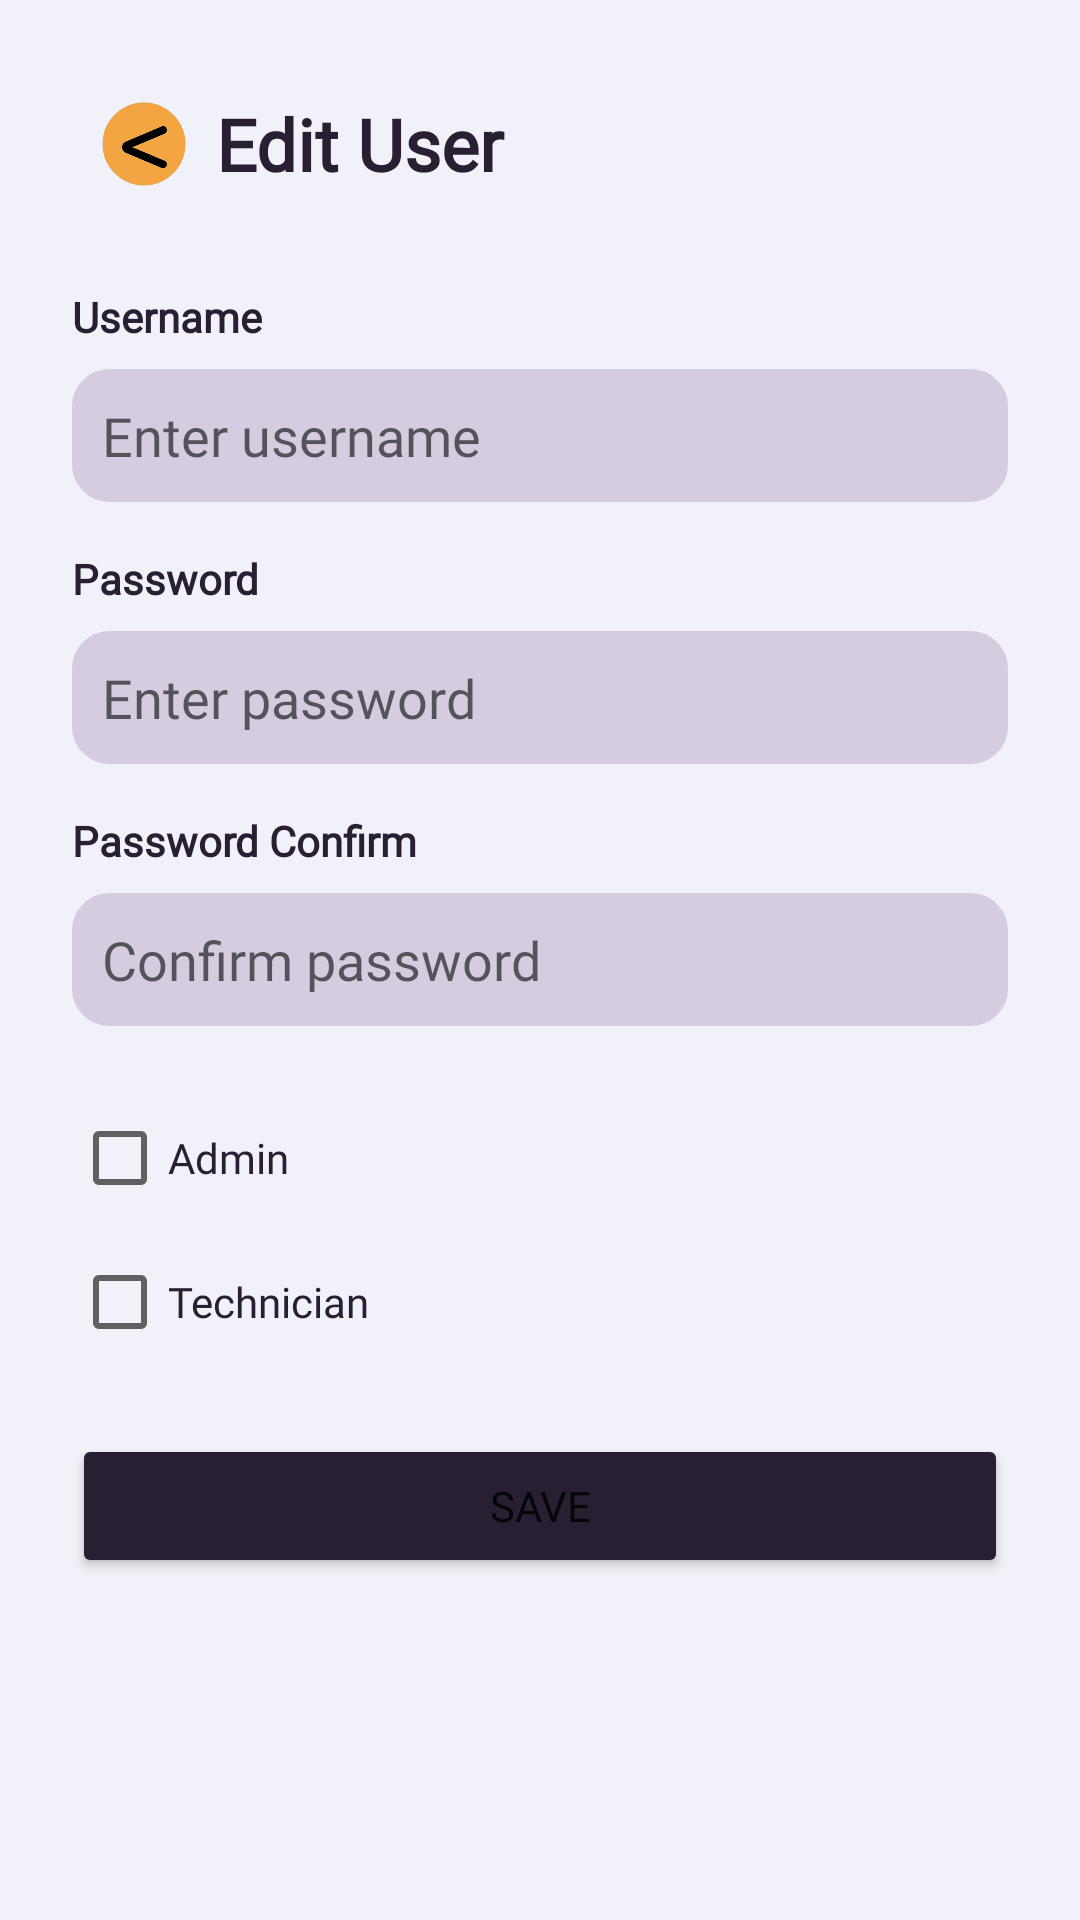

Point at icon controls on the screen. Image size 1080w x 1920h, points as point (x, y).
Back Button: point (144, 144)
